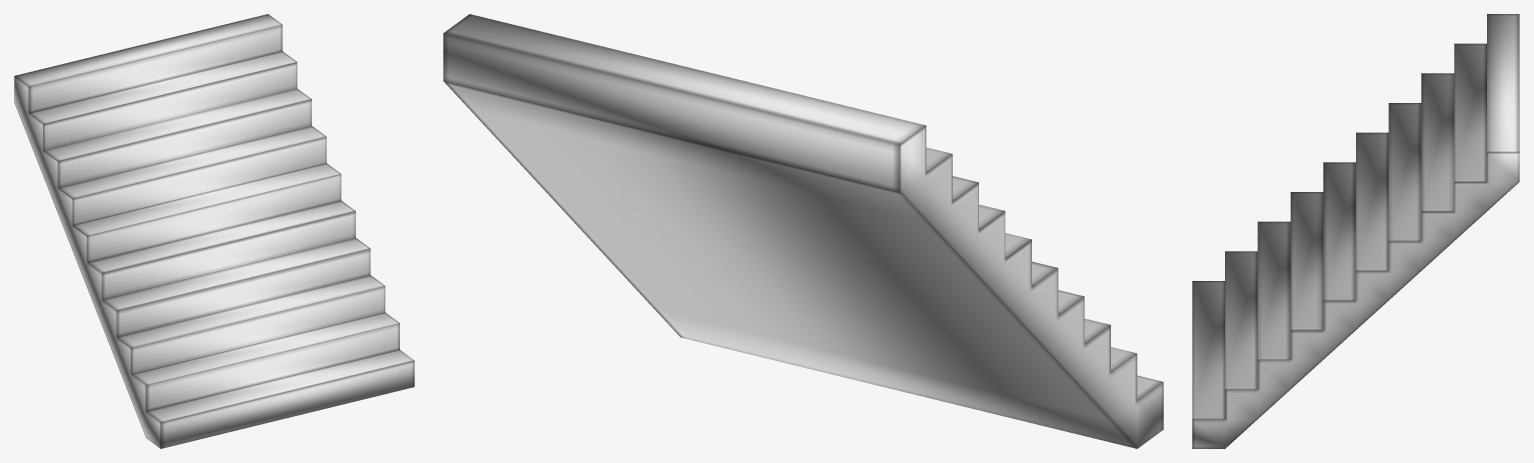
Rendered from Stairs-02.fbx.
3 renders of one model, left to right at view 1: azimuth 30°, elevation 25°; view 2: azimuth 150°, elevation 25°; view 3: azimuth 270°, elevation 25°, orthographic. The views are drawn at different scales.
Parts seen in each view (by area): view 1: Stairs-02; view 2: Stairs-02; view 3: Stairs-02.
Part boxes in pixels (x1,y1,x2,y2): Stairs-02: (14,14,414,448); Stairs-02: (443,14,1163,448); Stairs-02: (1192,14,1519,448).
Size of the model in its own units: 1 by 1 by 1.
